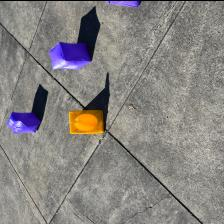cone: (68, 109, 104, 133)
cube: (48, 41, 92, 68), (7, 112, 41, 132), (104, 0, 139, 7)
